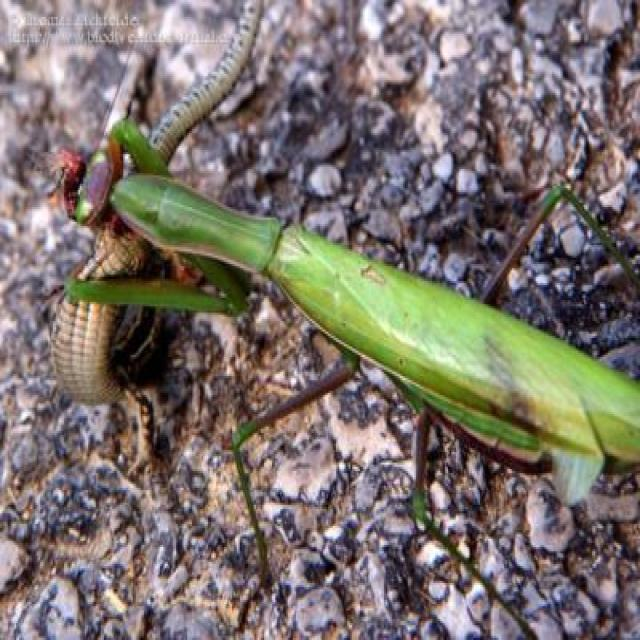body: (70, 150, 552, 455)
insect: (59, 118, 640, 639)
legs: (230, 341, 368, 584), (409, 387, 540, 639), (480, 188, 639, 301), (66, 253, 243, 311), (100, 120, 180, 186)
wings: (267, 222, 640, 454)
